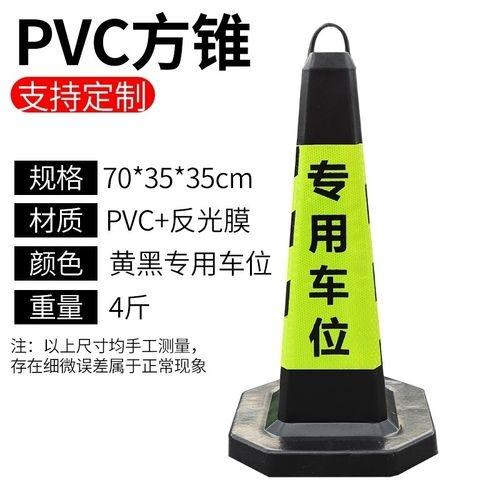cone_barrel: (249, 36, 417, 453)
